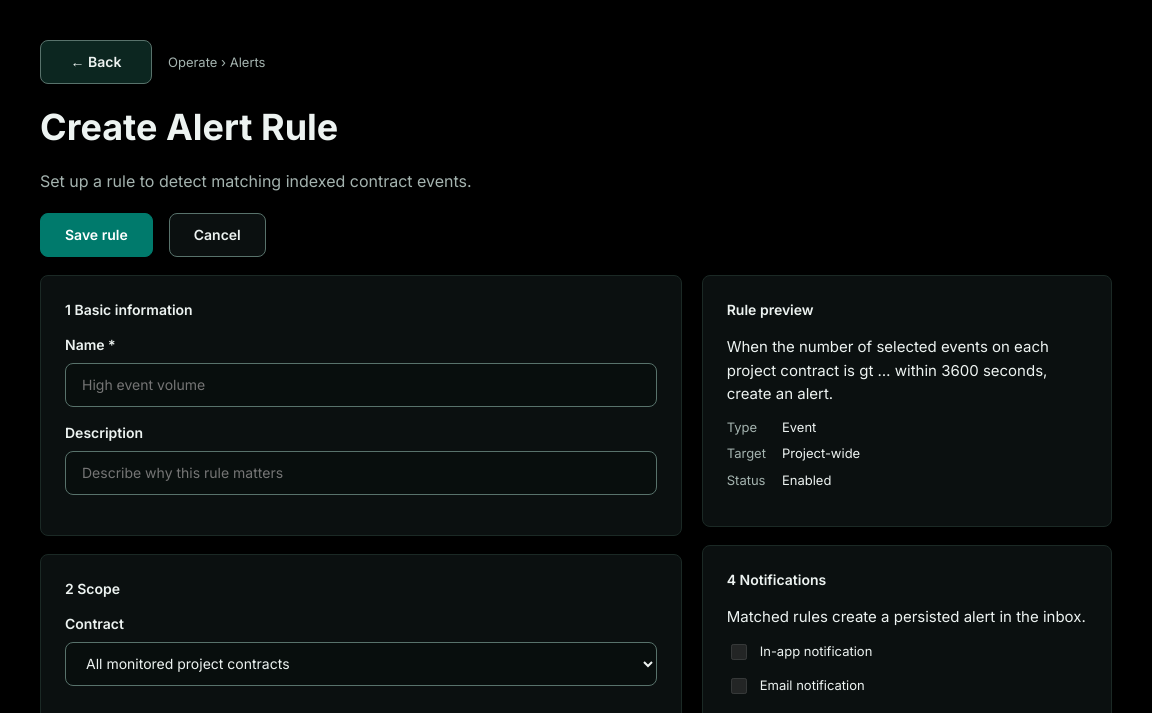
Test case: M3 API-backed UI › submits a typed count rule with an exact string threshold and navigates back to persisted rules
In the field labelled "Name *": point(361, 385) x1=65 y1=363 x2=657 y2=407, type "High volume"
(page scrolled)
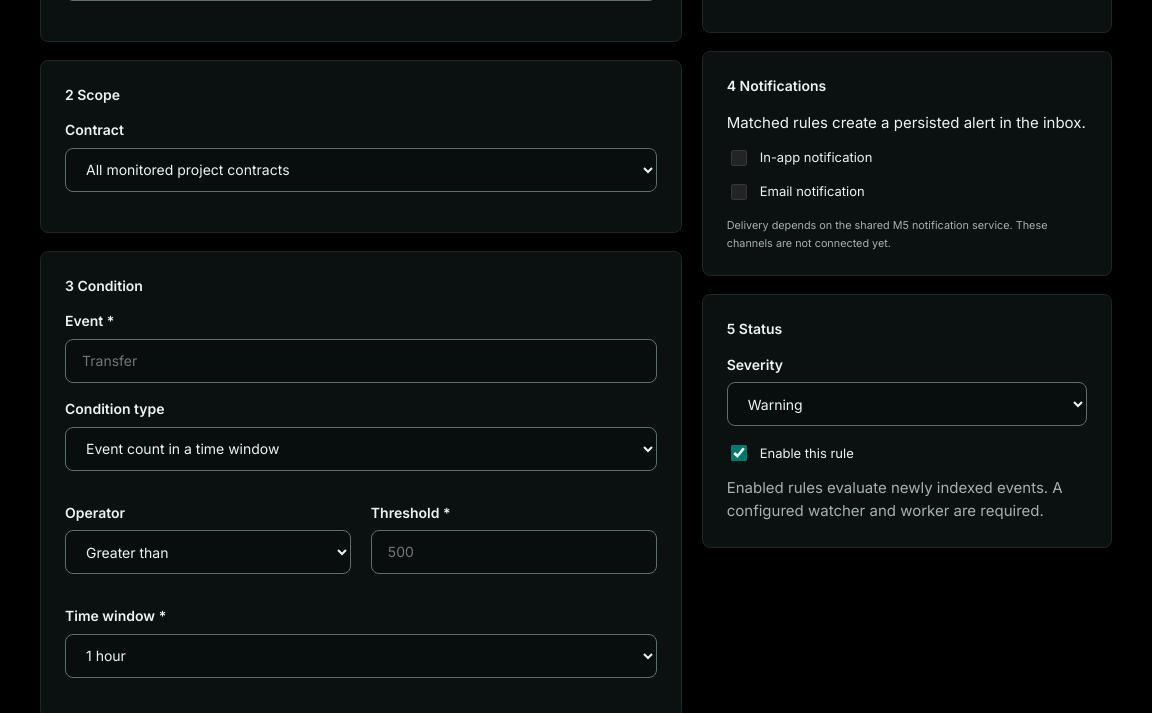
In the field labelled "Event *": point(361, 361) x1=65 y1=339 x2=657 y2=383, type "Withdrawal"
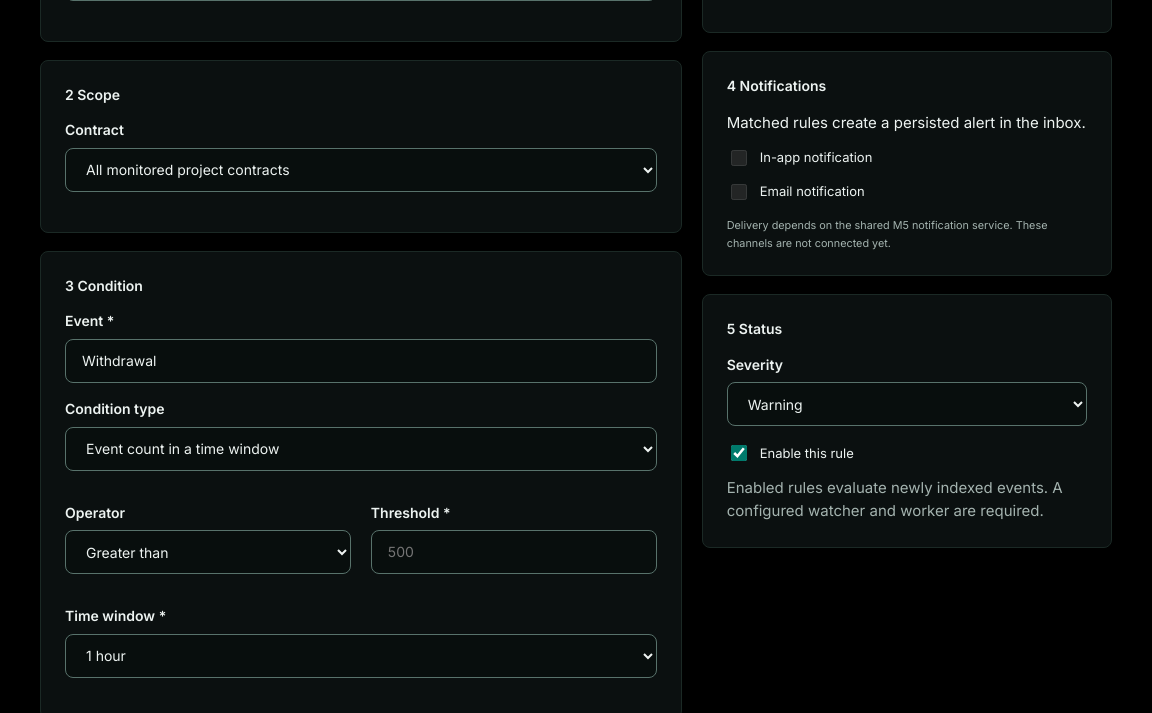
In the field labelled "Threshold *": point(514, 552) x1=371 y1=530 x2=657 y2=574, type "9007199254740993"
(page scrolled)
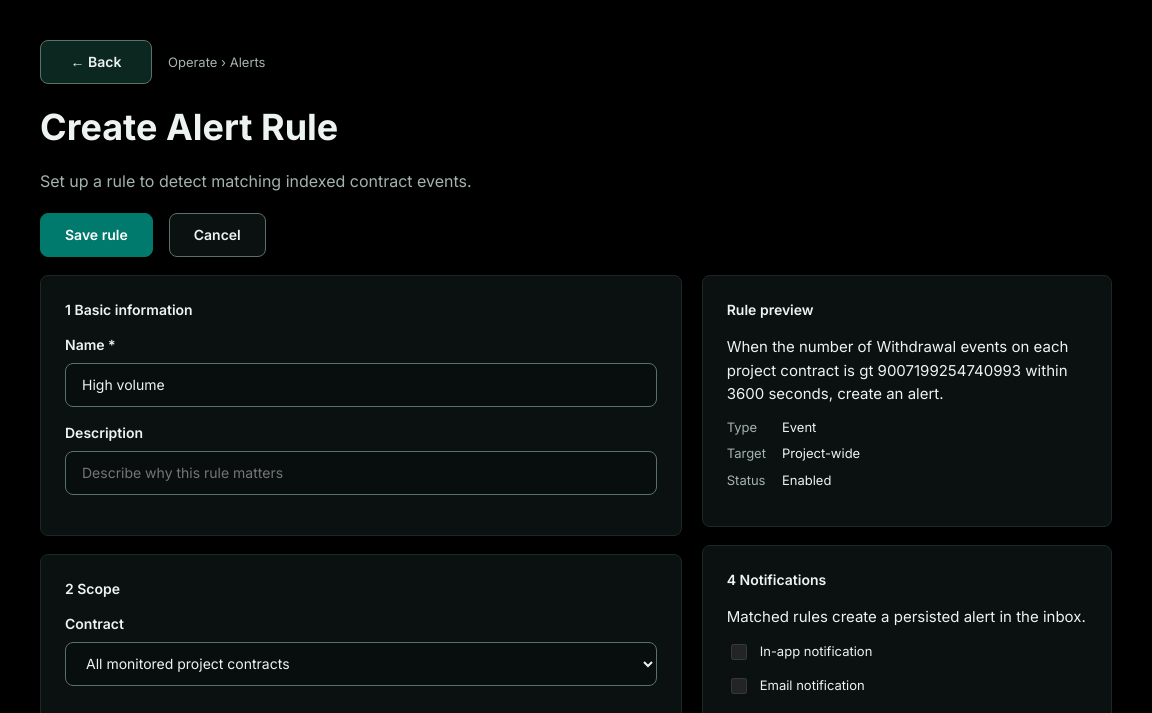
Click the button "Save rule": point(96, 235) x1=40 y1=213 x2=153 y2=257
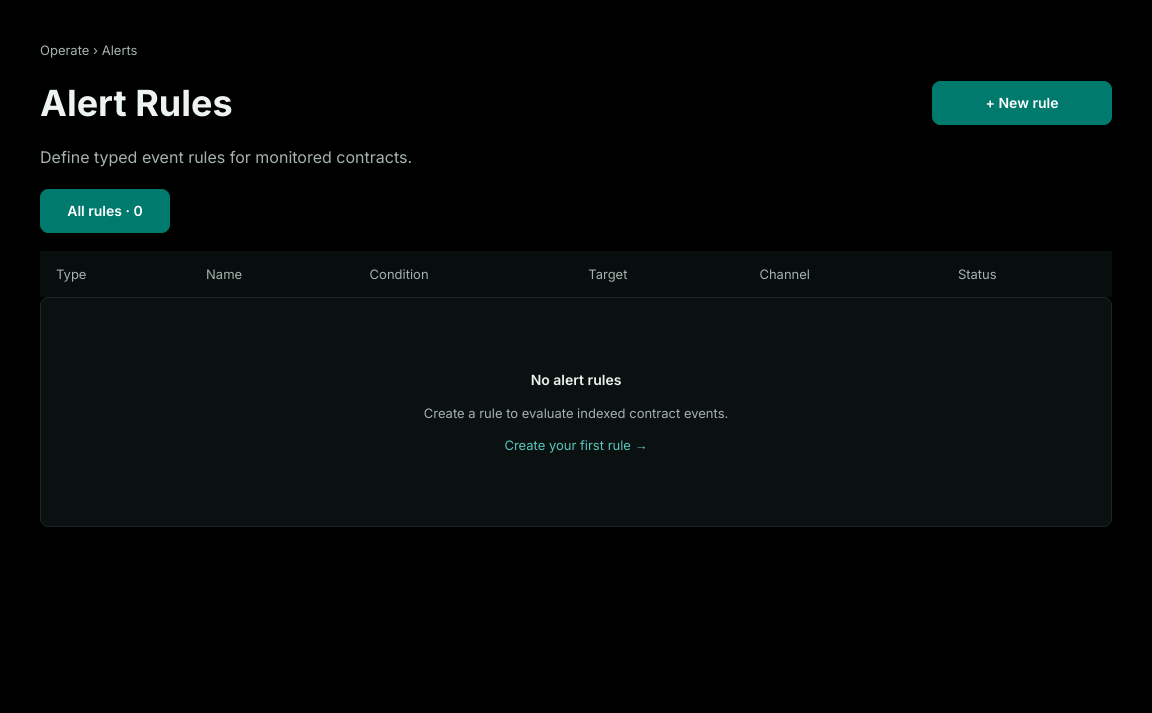
Now the heading "Alert Rules" is shown, box x1=40 y1=78 x2=233 y2=128
